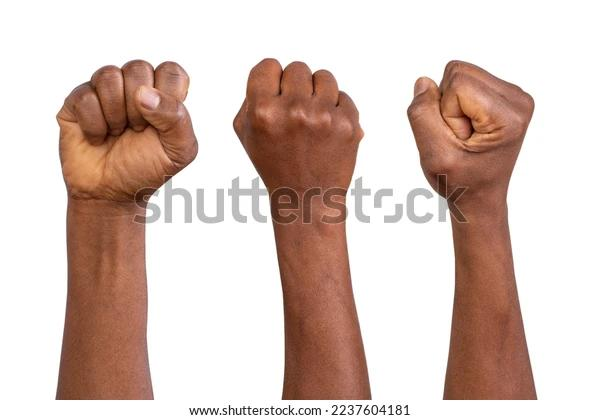rock: (40, 53, 210, 207), (397, 55, 548, 208), (227, 48, 373, 203)
